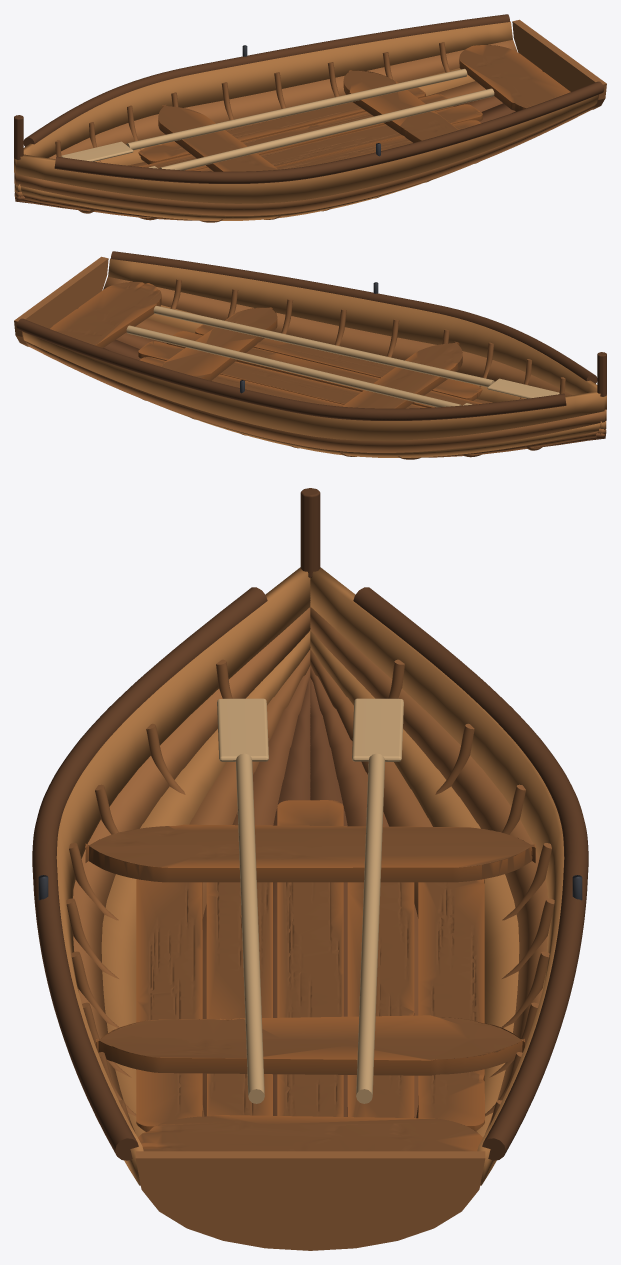
File: boat.glb
3 renders of one model, top to bottom at view 1: azimuth 30°, elevation 25°; view 2: azimuth 150°, elevation 25°; view 3: azimuth 270°, elevation 25°, orthographic. The views are drawn at different scales.
Parts seen in each view (by area): view 1: strake, floorboard, strake.002, rail, oar, rib, strake.006, oar_blade, strake.008, bow_post, strake.010; view 2: strake, floorboard, strake.002, rail, oar, rib, strake.006, oar_blade, strake.008, bow_post, strake.010; view 3: floorboard, strake, strake.002, rail, oar, rib, strake.008, strake.006, strake.010, oar_blade, bow_post.
Part boxes in pixels (x1,y1,x2,y2): strake: (14,22,597,220); floorboard: (138,45,570,171); strake.002: (14,19,606,215); rail: (23,14,604,183); oar: (126,68,494,170); rib: (55,42,478,222); strake.006: (15,81,485,220); oar_blade: (61,141,157,168); strake.008: (14,96,502,210); bow_post: (14,115,23,159); strake.010: (15,103,516,203); strake: (23,259,606,457); floorboard: (50,282,482,408); strake.002: (14,256,606,452); rail: (16,251,597,420); oar: (126,305,494,407); rib: (142,279,565,459); strake.006: (135,318,605,457); oar_blade: (463,378,559,405); strake.008: (116,332,606,447); bow_post: (597,352,606,396); strake.010: (103,340,605,440); floorboard: (85,800,535,1151); strake: (56,567,564,1185); strake.002: (73,607,547,1250); rail: (32,587,588,1160); oar: (235,753,385,1103); rib: (66,659,554,1125); strake.008: (202,665,418,1117); strake.006: (189,649,432,1118); strake.010: (273,678,347,1116); oar_blade: (217,698,403,761); bow_post: (300,488,320,577).
Size of the model in its own units: 3.05 by 0.7761 by 1.34.
